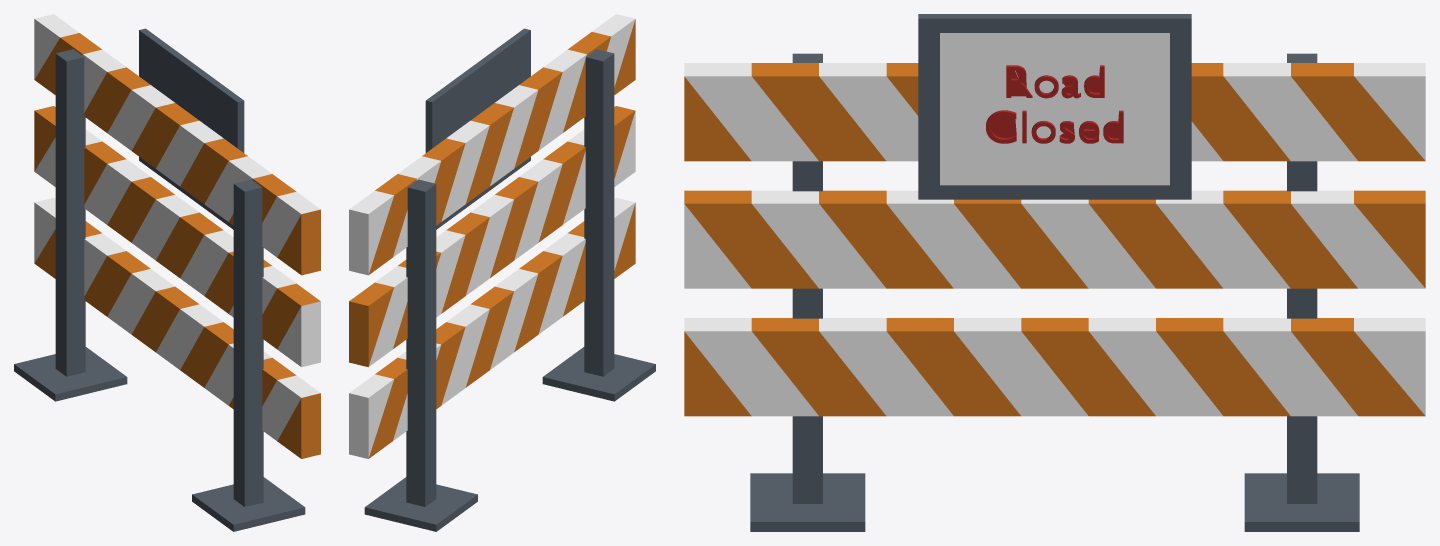
Rendered from Road_Block.fbx.
3 renders of one model, left to right at view 1: azimuth 30°, elevation 25°; view 2: azimuth 150°, elevation 25°; view 3: azimuth 270°, elevation 25°, orthographic. The views are drawn at different scales.
Visible parts, largest first — view 1: RoadBlockBlocks, RoadBlockPoles, RoadBlockSign; view 2: RoadBlockBlocks, RoadBlockPoles, RoadBlockSign; view 3: RoadBlockBlocks, RoadBlockSign, RoadBlockPoles, RoadBlockWords.
Boxes of the visible parts, <box> form: RoadBlockBlocks: <box>34,14,320,458</box>; RoadBlockPoles: <box>14,49,305,531</box>; RoadBlockSign: <box>139,28,244,229</box>; RoadBlockBlocks: <box>349,14,635,458</box>; RoadBlockPoles: <box>364,49,655,531</box>; RoadBlockSign: <box>425,28,530,229</box>; RoadBlockBlocks: <box>684,63,1425,416</box>; RoadBlockSign: <box>918,14,1191,199</box>; RoadBlockPoles: <box>750,53,1359,531</box>; RoadBlockWords: <box>986,65,1123,143</box>.
Bounding box in the file's own units: 64.38 × 305 × 400.
